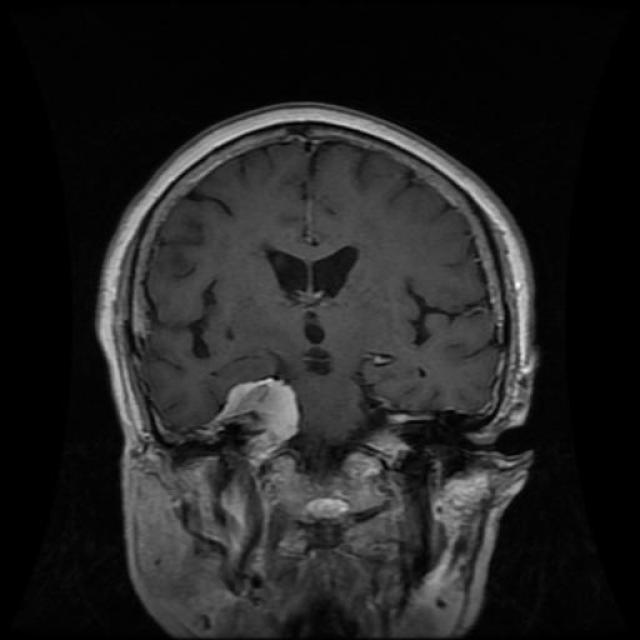Tumor: (212, 370, 306, 455)
